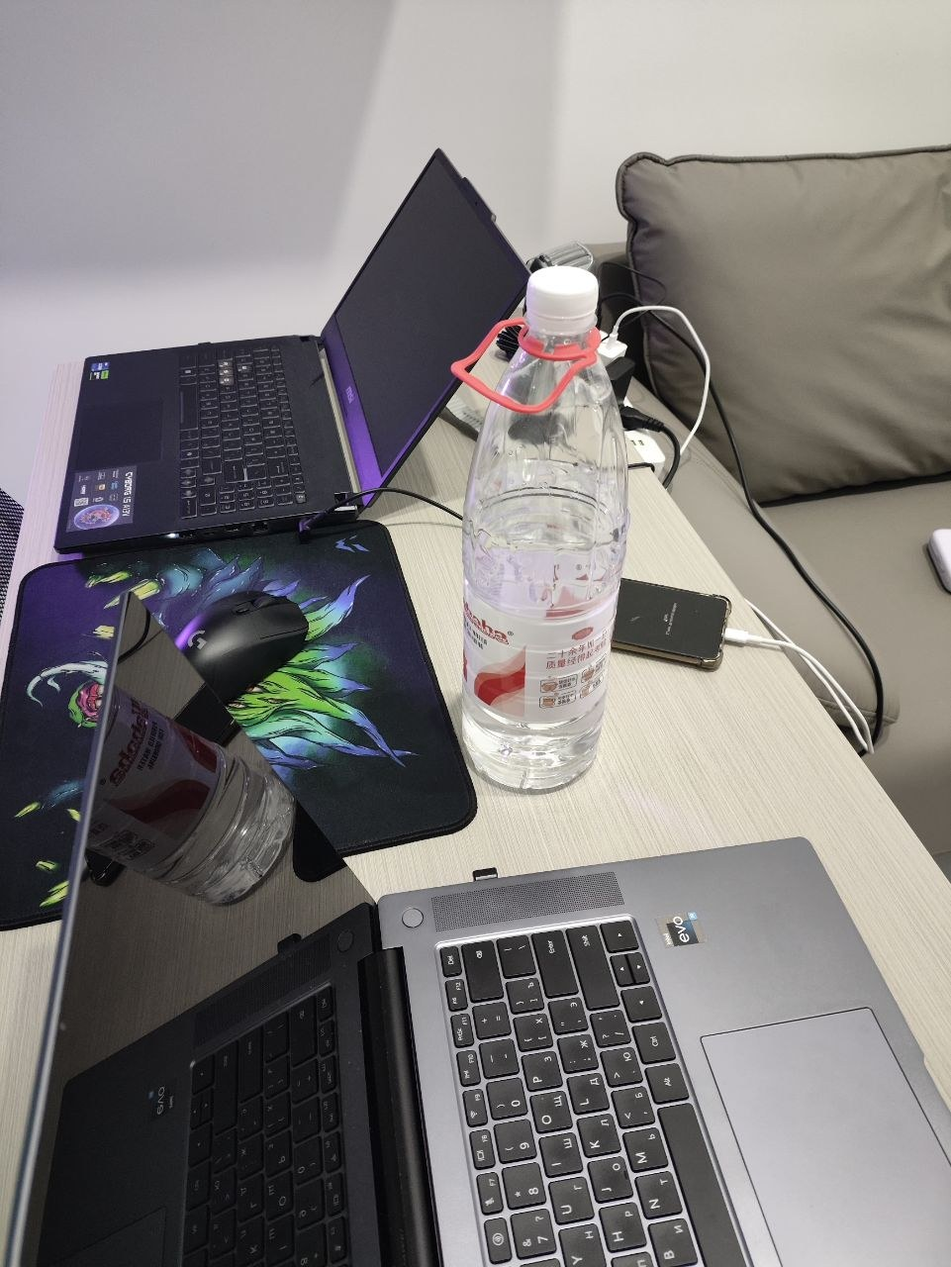cell phone: (610, 576, 731, 669)
laptop: (35, 834, 950, 1265), (54, 147, 532, 555)
